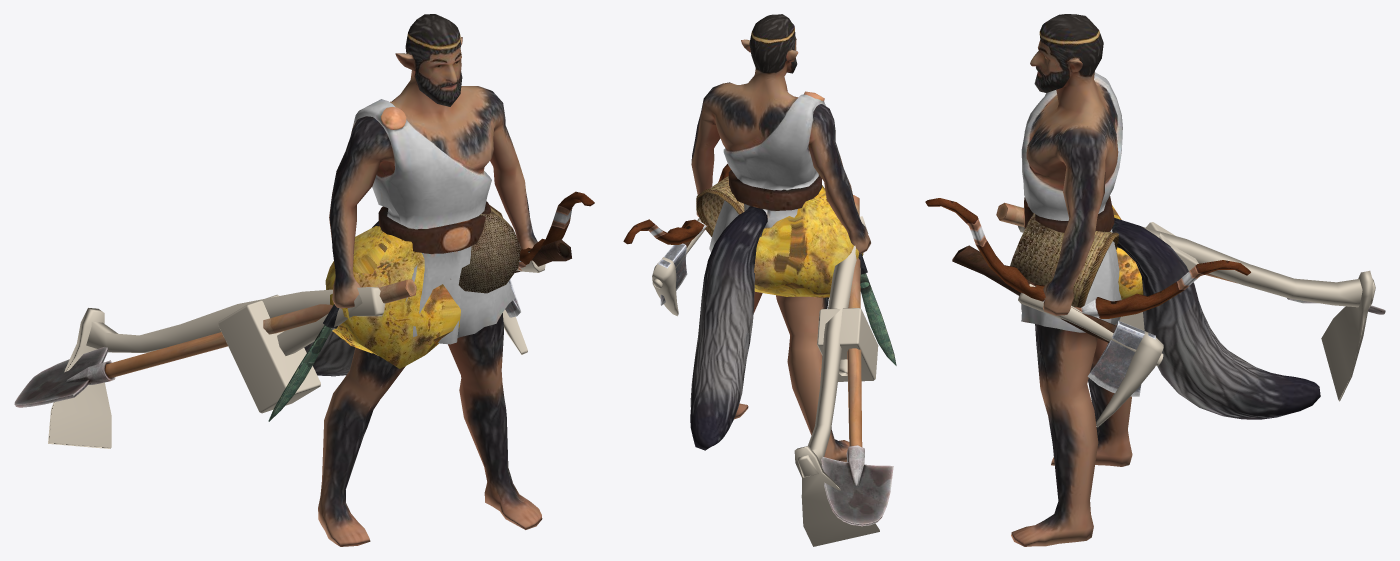
File: 152-lykaonvillager.glb
The picture shows the model from 3 angles, left to right: view 1: azimuth 30°, elevation 25°; view 2: azimuth 150°, elevation 25°; view 3: azimuth 270°, elevation 25°; orthographic projection. The views are drawn at different scales.
Size of the model in its own units: 1.62 by 2.05 by 1.74.
10 materials, 7 textured.
